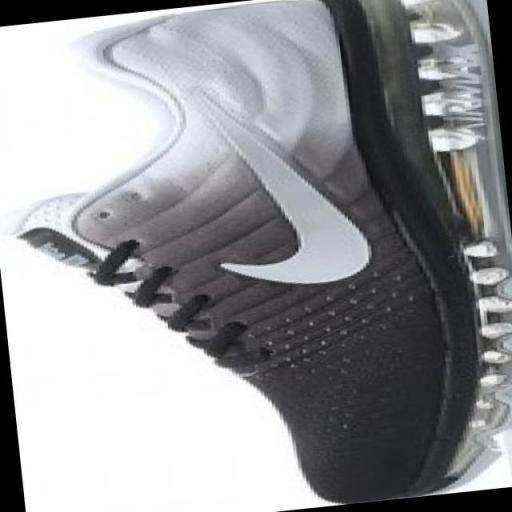Nike: (174, 54, 391, 305)
